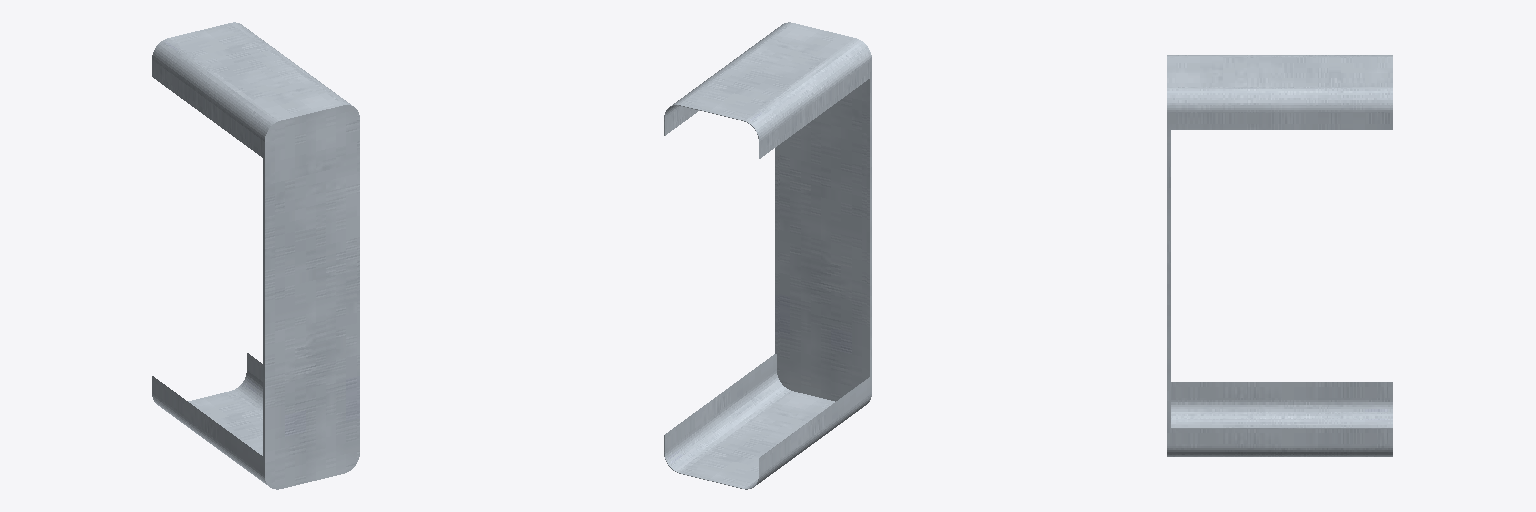
3 views of the same model, side by side, from view 1: azimuth 30°, elevation 25°; view 2: azimuth 150°, elevation 25°; view 3: azimuth 270°, elevation 25° (orthographic).
Parts seen in each view (by area): view 1: Metal_Aluminum_Anodized; view 2: Metal_Aluminum_Anodized; view 3: Metal_Aluminum_Anodized.
Part boxes in pixels (x1,y1,x2,y2): Metal_Aluminum_Anodized: (152, 22, 359, 489); Metal_Aluminum_Anodized: (664, 22, 871, 489); Metal_Aluminum_Anodized: (1167, 55, 1392, 456).
Bounding box in the file's own units: 0.4 × 1.48 × 0.82.
Materials: 1 (1 with a texture image).